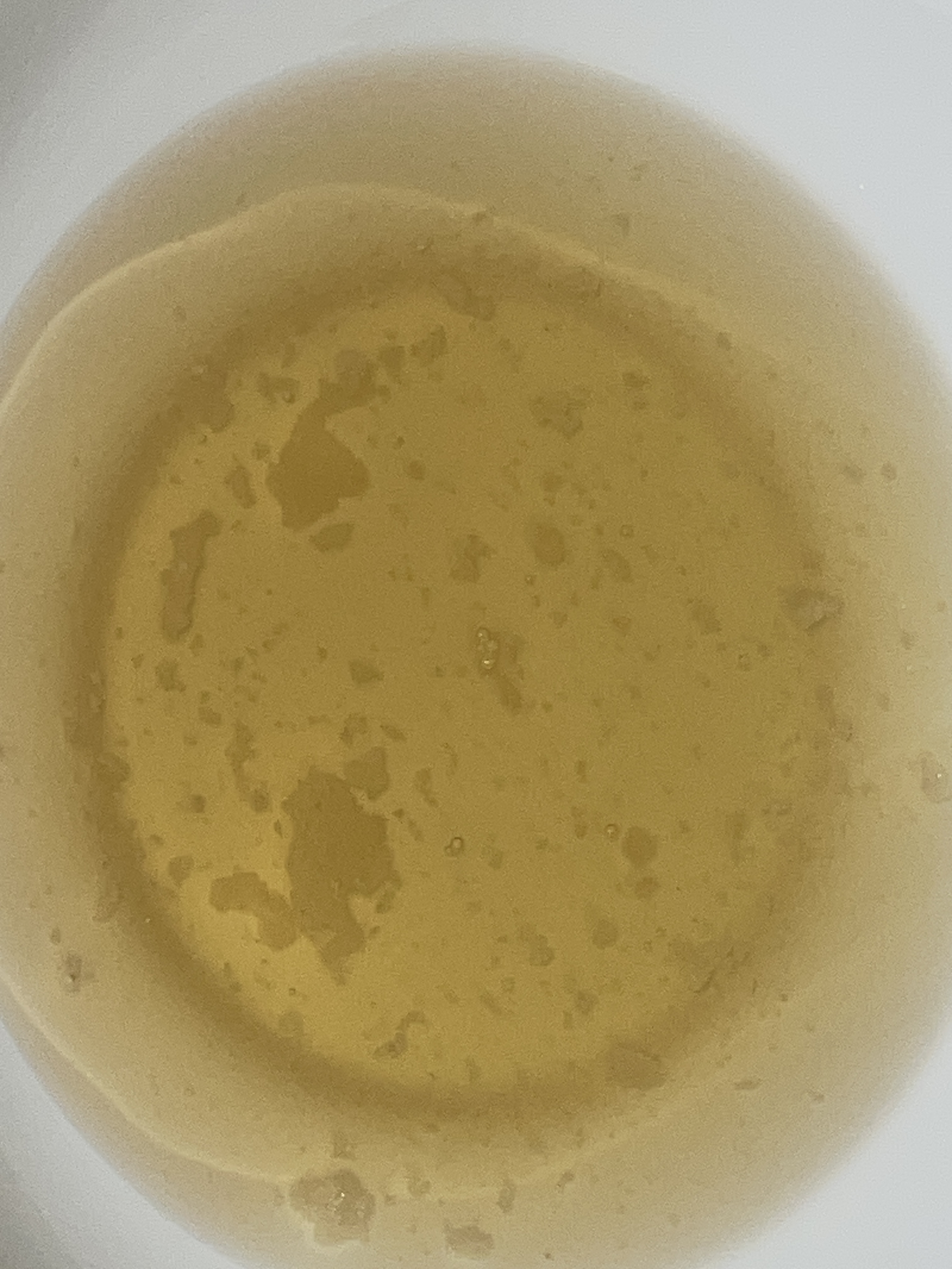reusable: (0, 54, 952, 1269)
